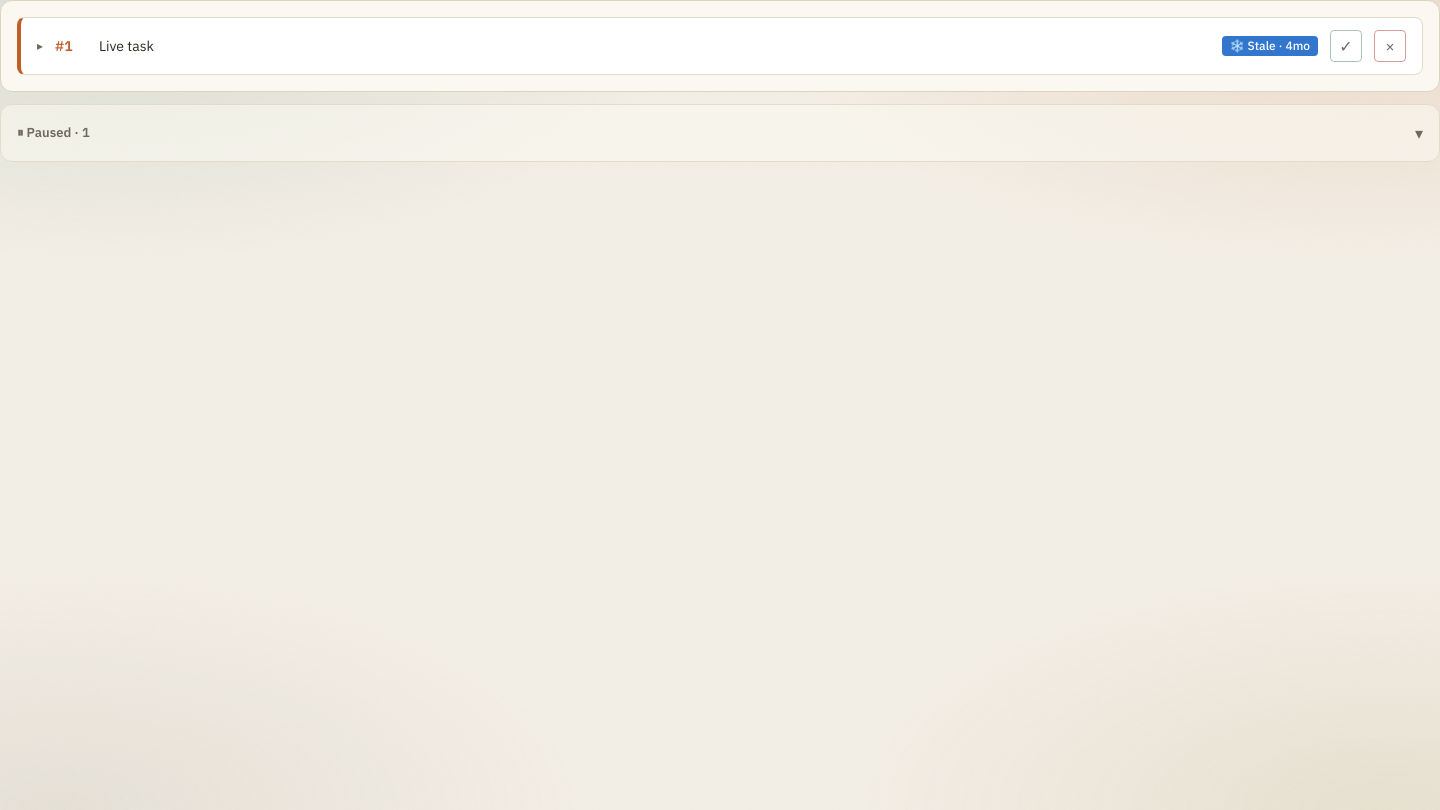
paused (start-later) tasks › a dormant task leaves the ranking and lives in the collapsed Paused strip
This screenshot has width=1440, height=810.
Expected: the text "Paused project" is not shown
Step 1. Click the button "⏸ Paused · 1 ▾" → (54, 133), box [17,115,1423,151]
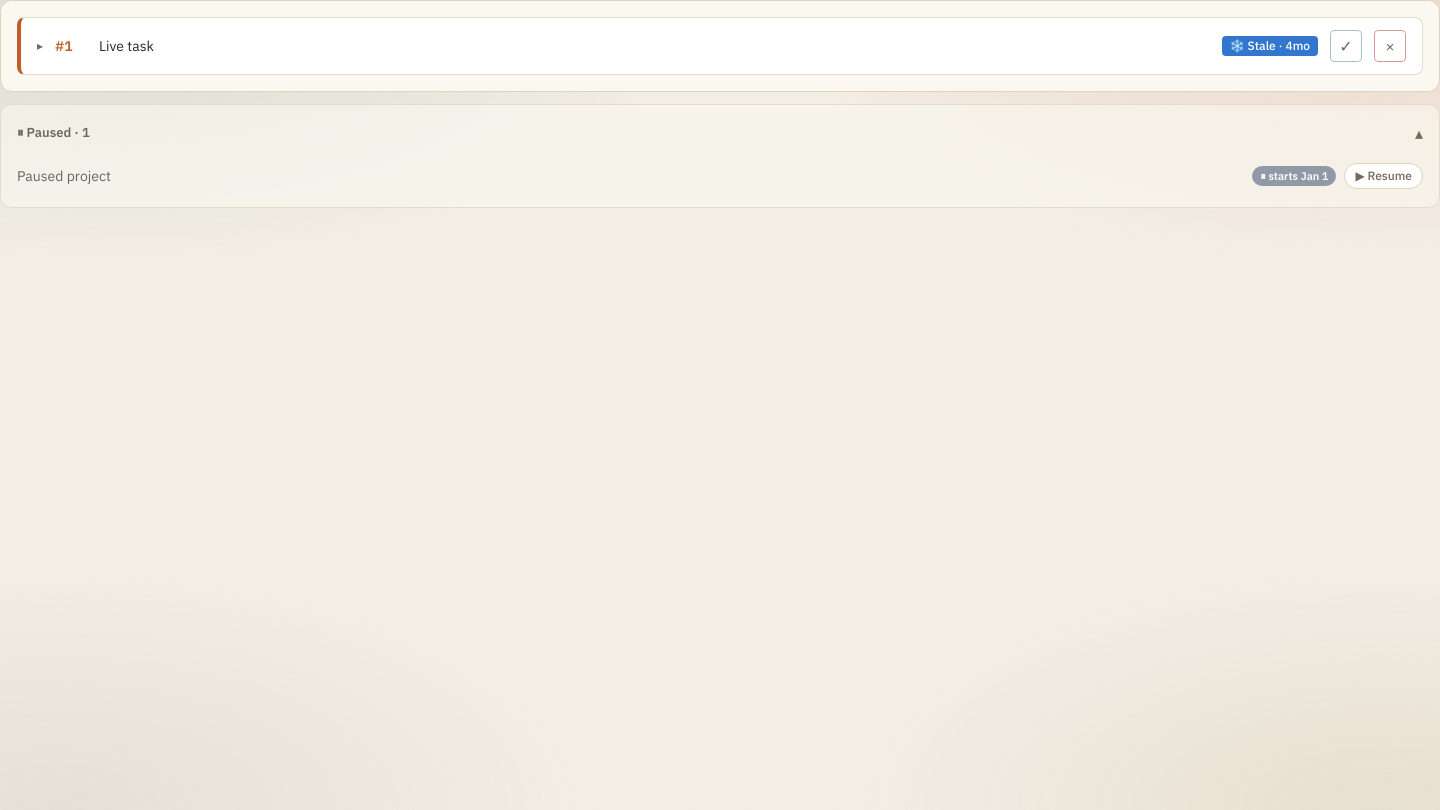
Result: the text "Paused project" is shown at [17,167,111,185]
Result: the text "⏸ starts Jan 1" is shown at [1252,166,1336,186]
